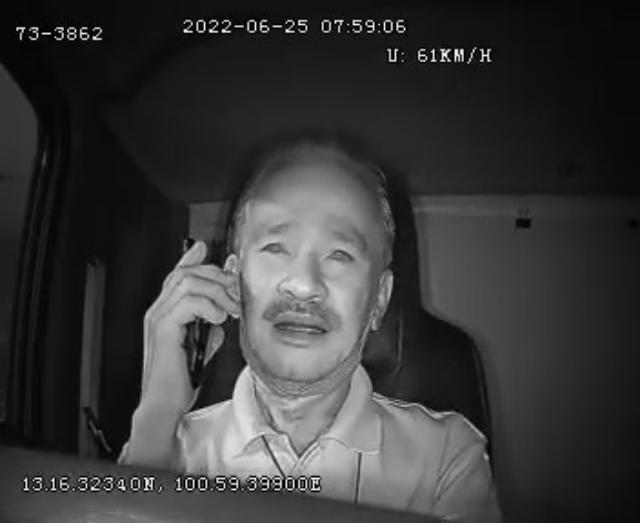PhoneUse: (178, 233, 216, 391)
SafeDriving: (318, 233, 362, 274), (252, 226, 297, 264)
